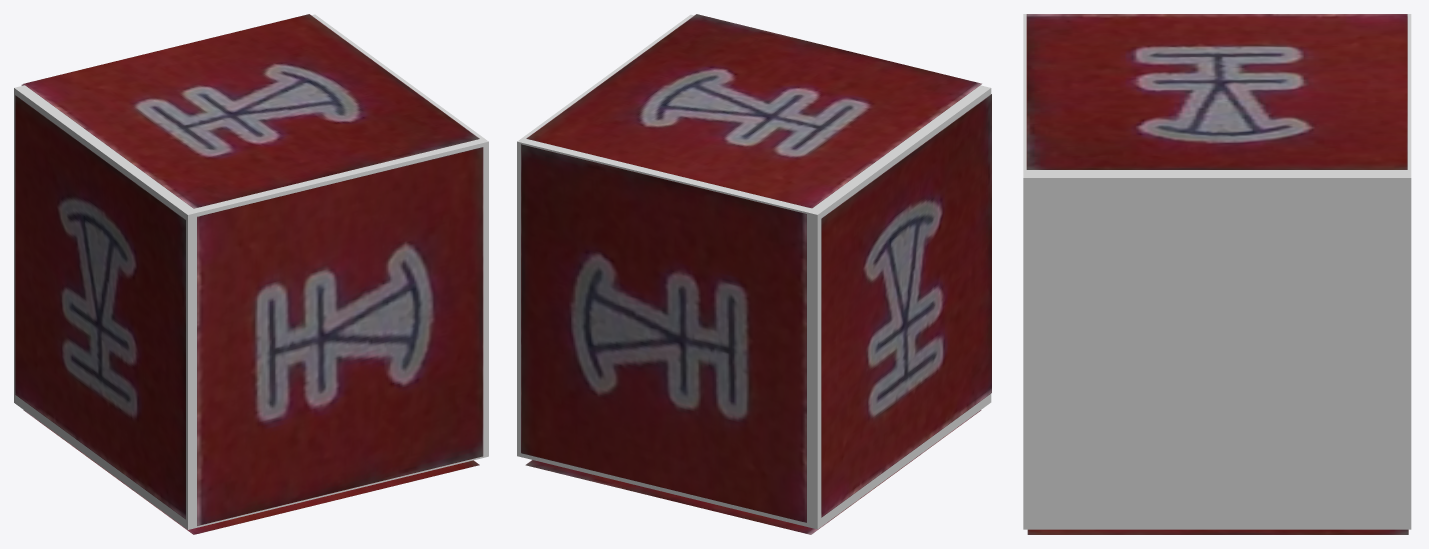
3 renders of one model, left to right at view 1: azimuth 30°, elevation 25°; view 2: azimuth 150°, elevation 25°; view 3: azimuth 270°, elevation 25°, orthographic. The views are drawn at different scales.
Parts seen in each view (by area): view 1: fake2.png.005, fake2.png.001, fake2.png.003, Link35, fake2.png.004; view 2: fake2.png.002, fake2.png.001, fake2.png.003, Link35, fake2.png.004; view 3: Link35, fake2.png.003, fake2.png.004.
Part boxes in pixels (x1,y1,x2,y2): fake2.png.005: (197, 147, 483, 525); fake2.png.001: (15, 95, 185, 519); fake2.png.003: (23, 14, 479, 208); Link35: (14, 14, 488, 529); fake2.png.004: (23, 410, 479, 534); fake2.png.002: (521, 144, 806, 522); fake2.png.001: (821, 94, 991, 517); fake2.png.003: (526, 14, 981, 208); Link35: (517, 14, 991, 529); fake2.png.004: (525, 410, 981, 534); Link35: (1023, 14, 1411, 529); fake2.png.003: (1026, 14, 1407, 169); fake2.png.004: (1027, 529, 1408, 534).
Size of the model in its own units: 0.3515 by 0.3561 by 0.3629.
Materials: 1 (1 with a texture image).
